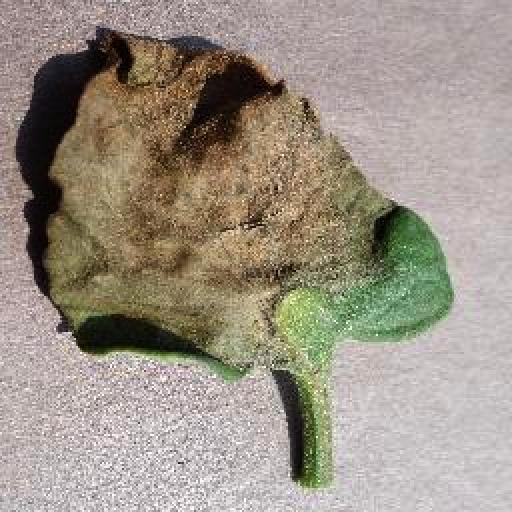disease_tomato: (40, 26, 454, 382)
